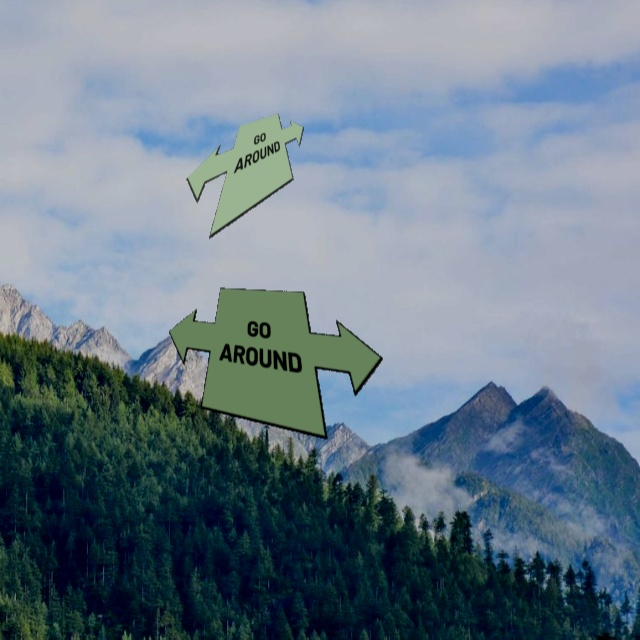GO_AROUND: (168, 288, 383, 440), (186, 113, 304, 240)
